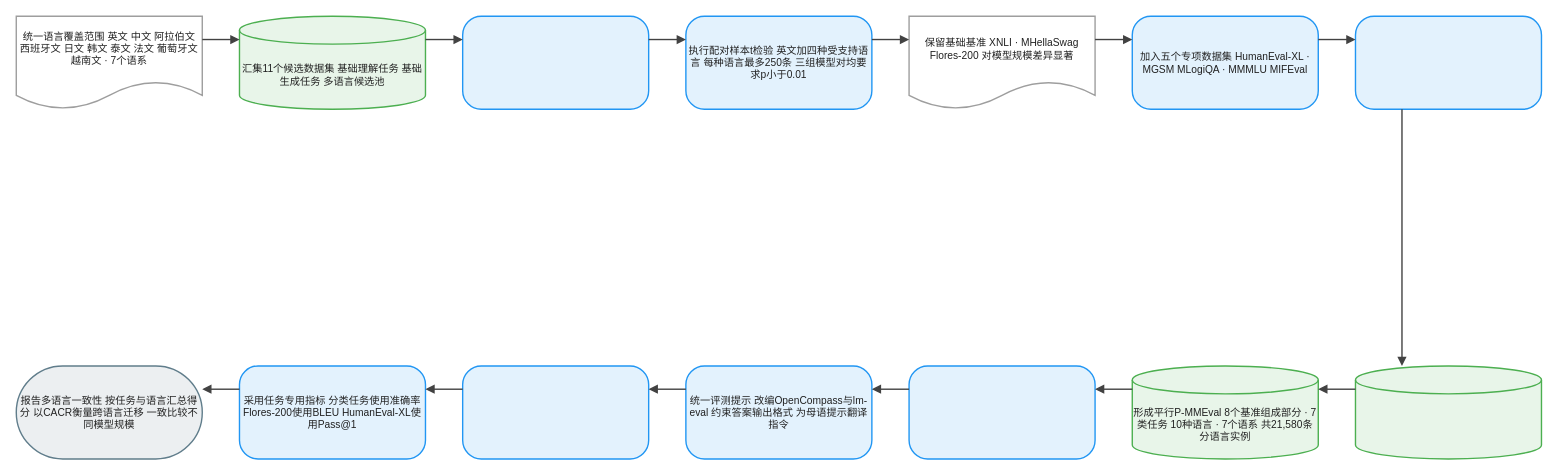
The diagram is 1559 pixels wide and 476 high, and some of its shapes have lost their labels. Each missing label, with the box of its shape:
专业翻译团队复核 修订并本地化措辞 移除文化上不可映射条目 验证跨语言语义等价: (1354, 365, 1542, 459)
使用三组模型对探测 Qwen2.5 7B 对 72B LLaMA3.1 8B 对 70B Mistral Nemo 对 Large: (462, 15, 649, 110)
固定各组成部分样本数 1012 · 120 · 120 · 80 250 · 80 · 400 · 96 八个组成部分均按每种语言计: (908, 365, 1095, 459)
补齐缺失翻译 用GPT-4o生成未覆盖语言 每个组成部分扩展至十种语言 保持平行样本对齐: (1354, 15, 1542, 110)
运行三种提示设置 英文 · 母语 · 英文少样本 MGSM使用思维链 其余任务直接作答: (462, 365, 649, 459)
